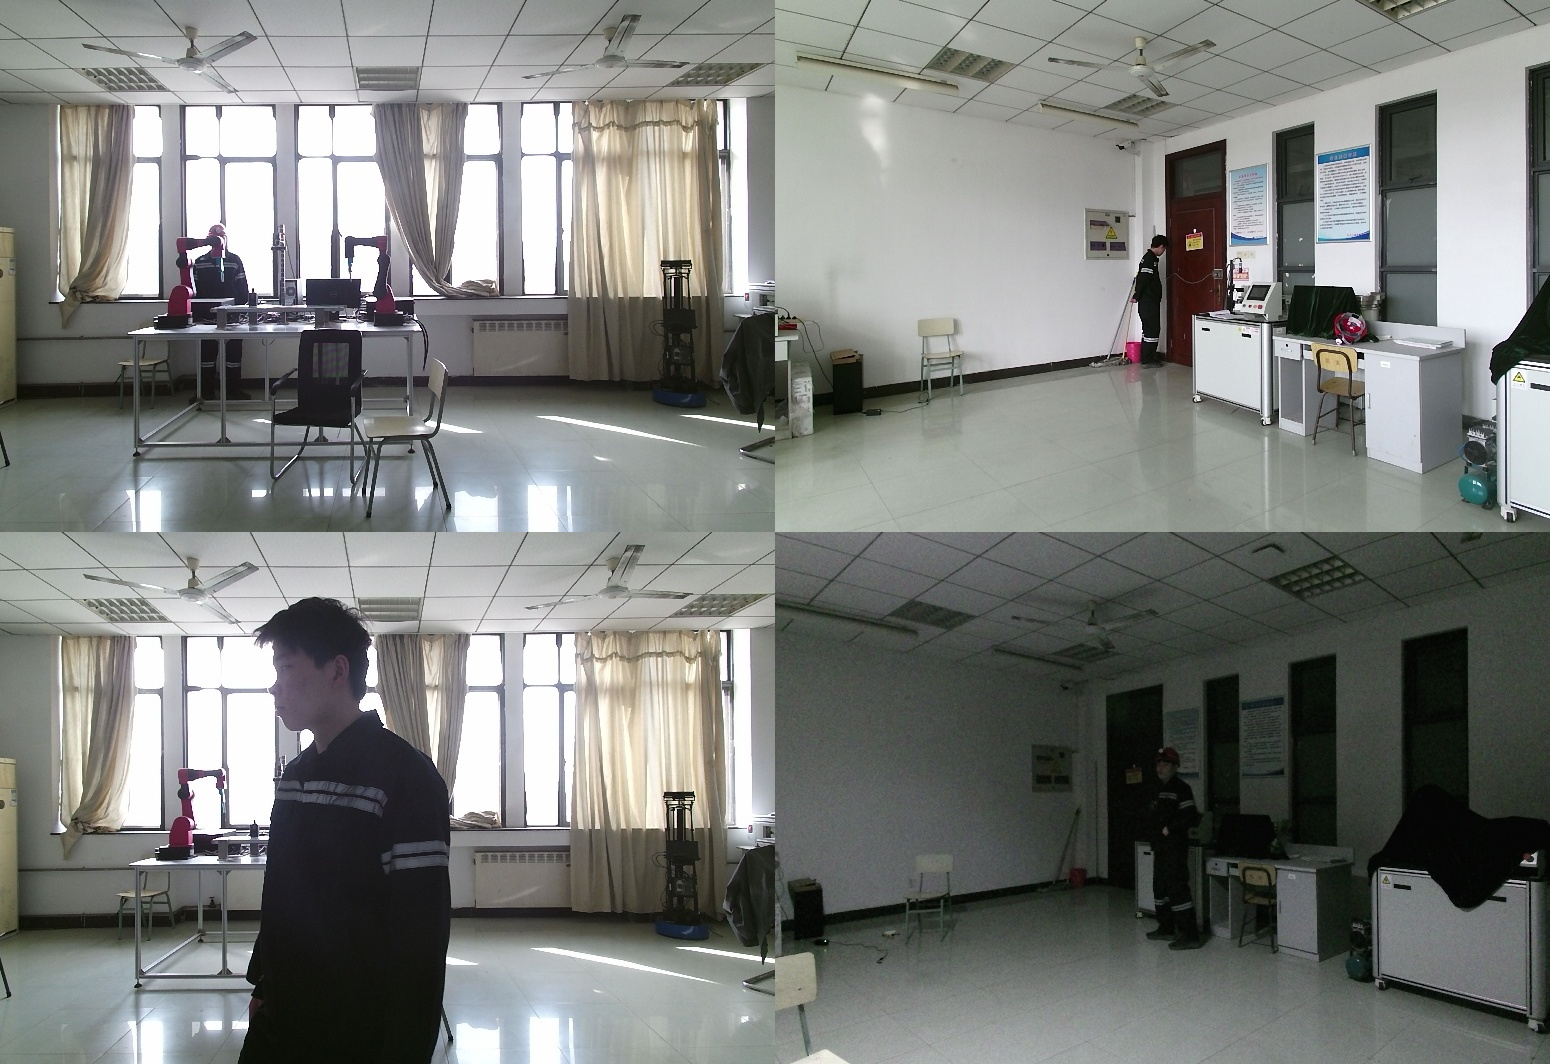person: (250, 596, 496, 1064), (1163, 747, 1229, 953), (193, 224, 249, 404), (1132, 236, 1173, 374)
